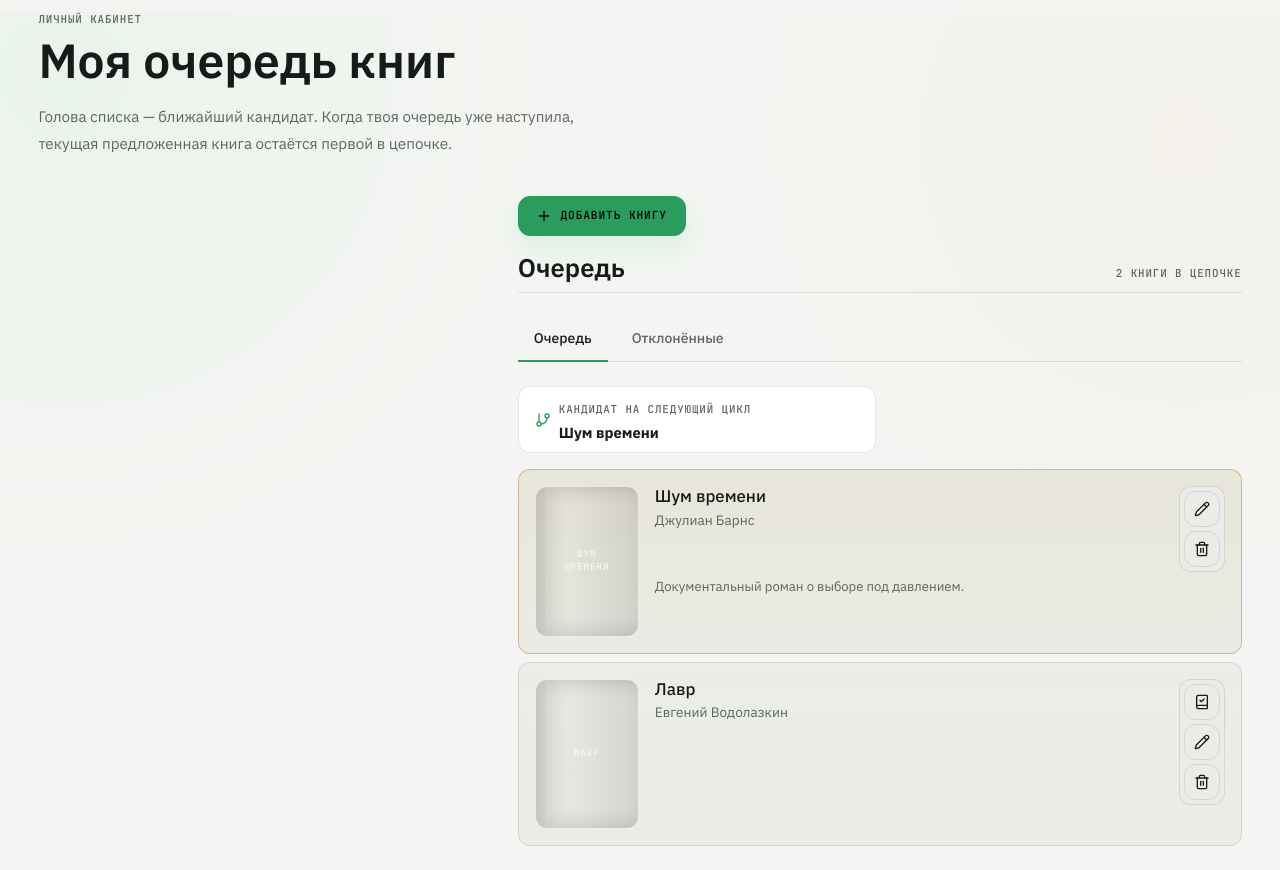
Test: ProposeNewSelectionView › opens inline edit form when edit is clicked
Click the button named "Редактировать книгу" in the row of "Джулиан Барнс" at (1202, 509), box top-left (1184, 491), bottom-right (1220, 527)
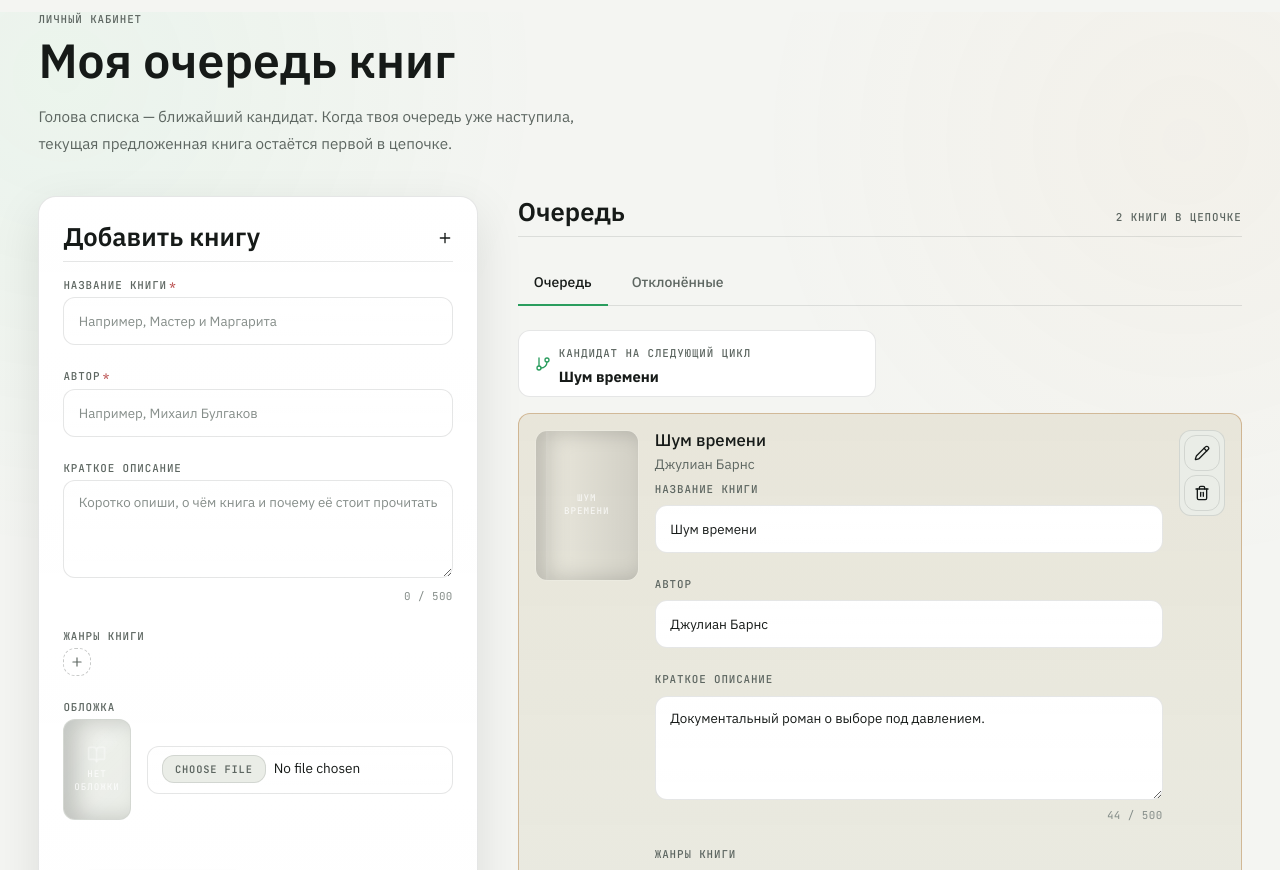
Result: the text box labelled "Краткое описание" below "Добавить книгу" is shown at top-left (63, 480), bottom-right (453, 578)
